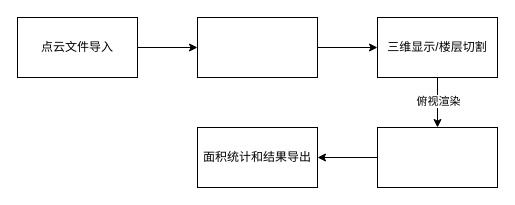
The diagram is 515 pixels wide and 205 high, and some of its shapes have lost their labels. Here are the shapes that lost their labels. From the top down, the centre of each, then its label:
At pixel 257 47: "格式识别和属性读取".
At pixel 437 157: "墙体建模、门窗标注".
